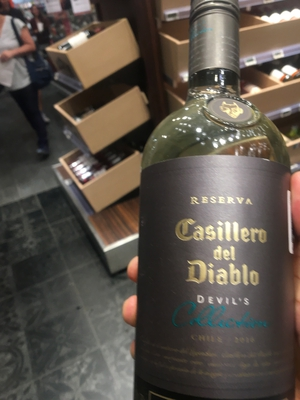casillero del diablo devils collection verde: (125, 8, 300, 394)
